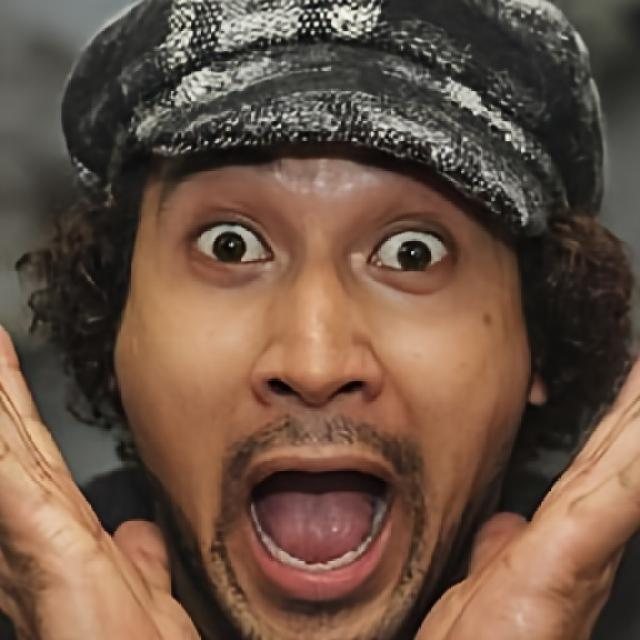surprise: (113, 146, 533, 640)
